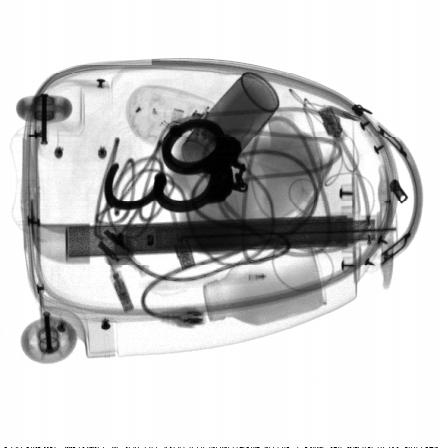HandCuffs: (103, 116, 250, 211)
